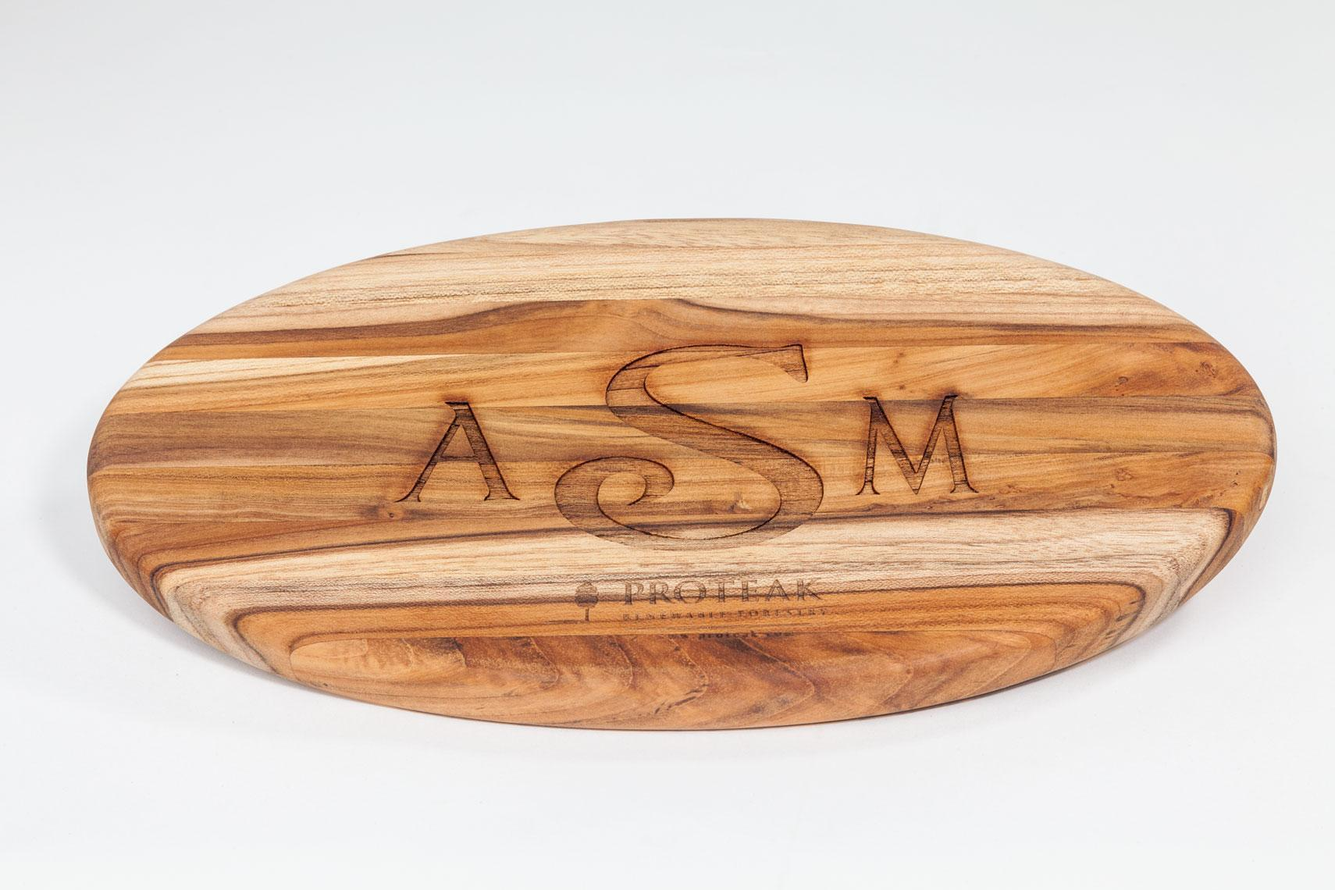gloved_hand: (82, 199, 1296, 744)
